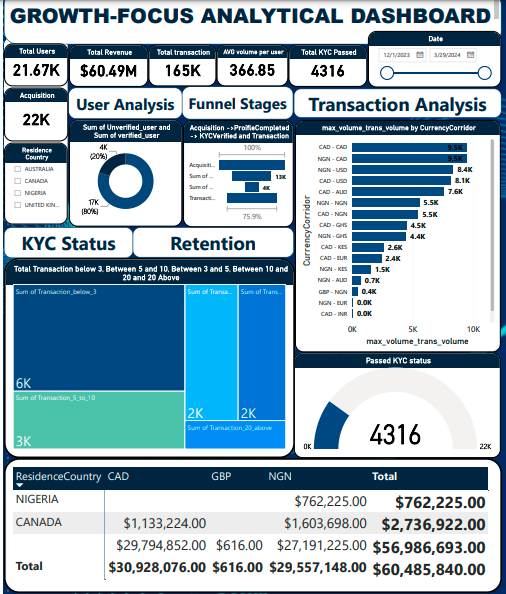

What the dashboard file says about the page in this screenshot:
{"tool":"powerbi","page":{"name":"Growth Report","canvas":[930,1166],"ordinal":0},"visuals":[{"type":"shape","box":[0,126.7,118.3,348.3],"z":1000},{"type":"shape","box":[118.8,221.9,201,56.2],"z":2000},{"type":"shape","box":[0,480.5,239.1,56.3],"z":3000},{"type":"shape","box":[535.7,222.9,384.3,54.3],"z":4000},{"type":"shape","box":[324,218.8,201,61.5],"z":5000},{"type":"shape","box":[249,480.2,286.5,55.2],"z":6000},{"type":"shape","box":[0,42.9,920,98.6],"z":7000},{"type":"textbox","box":[0,54.5,920.2,59.6],"z":8000},{"type":"actionButton","box":[0,0,100,40],"z":9000},{"type":"card","title":"Total transaction","fields":{"Values":["Transactions_Table1 - Transactions_Table.Total_Transaction"]},"box":[264.6,140.6,124,78.1],"z":10000},{"type":"card","title":"Total Users","fields":{"Values":["CountNonNull(Users_Table1 - Users_Table.Users)"]},"box":[0,138.5,117.7,80.2],"z":11000},{"type":"card","title":"Total Revenue","fields":{"Values":["Sum(Transactions_Table1 - Transactions_Table.BaseAmount)"]},"box":[122.9,140.6,137.5,80.2],"z":12000},{"type":"card","title":"Total KYC Passed","fields":{"Values":["Sum(Users_Table1 - Users_Table.completed_KYC_passed)"]},"box":[532.3,140.6,145.8,80.2],"z":13000},{"type":"slicer","title":"Residence Country","fields":{"Values":["Users_Table1 - Users_Table.ResidenceCountry"]},"box":[0,332.3,117.7,141.7],"z":14000},{"type":"card","title":"AVG volume per user","fields":{"Values":["Transactions_Table1 - Transactions_Table.AVG_volume_per_user"]},"box":[391.7,140.6,133.3,78.1],"z":15000},{"type":"card","title":"Acquisition","fields":{"Values":["Users_Table1 - Users_Table.Acquisition"]},"box":[0,226,117.7,100],"z":16000},{"type":"slicer","title":"Date","fields":{"Values":["Date_table.Date"]},"box":[681.2,115.6,238.5,106.2],"z":17000},{"type":"donutChart","fields":{"Y":["Sum(Users_Table1 - Users_Table.Unverified_user)","Sum(Users_Table1 - Users_Table.verified_user)"]},"box":[119.8,290.6,200,183.3],"z":18000},{"type":"funnel","title":"Acquisition ->ProifleCompleted -> KYCVerified and Transaction","fields":{"Y":["Users_Table1 - Users_Table.Acquisition","Sum(Users_Table1 - Users_Table.ProifleCompleted)","Sum(Users_Table1 - Users_Table.KYCVerified)","Transactions_Table1 - Transactions_Table.TransactionCount"]},"box":[322.9,290.6,204.2,183.3],"z":19000},{"type":"clusteredBarChart","fields":{"Category":["Transactions_Table1 - Transactions_Table.CurrencyCorridor"],"Y":["Transactions_Table1 - Transactions_Table.max_volume_trans_volume"]},"box":[550,290.6,368.8,420.8],"z":20000},{"type":"treemap","title":"Total Transaction below 3,  Between 5 and 10,  Between 3 and 5,  Between 10 and 20 and 20 Above","fields":{"Values":["Sum(User_and _NO_Trans.Transacrion_below_3)","Sum(User_and _NO_Trans.Transaction_10_to_20)","Sum(User_and _NO_Trans.Transaction_20_above)","Sum(User_and _NO_Trans.Transaction_3_to_5)","Sum(User_and _NO_Trans.Transaction_5_to_10)"]},"box":[0,542.7,537.5,370.8],"z":21000},{"type":"pivotTable","fields":{"Rows":["Users_Table1 - Users_Table.ResidenceCountry"],"Columns":["Transactions_Table1 - Transactions_Table.SendCurrencyId"],"Values":["Sum(Transactions_Table1 - Transactions_Table.BaseAmount)"]},"box":[0,922.9,920.8,236.5],"z":22000},{"type":"gauge","title":"Passed KYC status","fields":{"Y":["Sum(Users_Table1 - Users_Table.completed_KYC)"],"MaxValue":["CountNonNull(Users_Table1 - Users_Table.IsKYCVerified)"]},"box":[550,719.8,368.8,188.5],"z":23000}]}

Visuals, with their boxes on the page's 930x1166 design canvas (x1, y1, x2, y2). These are canvas units, not pixel positions in the 506x594 screenshot, which may show the page scaled, cropped or inside an application window:
shape: select_region(0, 127, 118, 475)
shape: select_region(119, 222, 320, 278)
shape: select_region(0, 480, 239, 537)
shape: select_region(536, 223, 920, 277)
shape: select_region(324, 219, 525, 280)
shape: select_region(249, 480, 536, 535)
shape: select_region(0, 43, 920, 142)
textbox: select_region(0, 54, 920, 114)
actionButton: select_region(0, 0, 100, 40)
"Total transaction" card: select_region(265, 141, 389, 219)
"Total Users" card: select_region(0, 138, 118, 219)
"Total Revenue" card: select_region(123, 141, 260, 221)
"Total KYC Passed" card: select_region(532, 141, 678, 221)
"Residence Country" slicer: select_region(0, 332, 118, 474)
"AVG volume per user" card: select_region(392, 141, 525, 219)
"Acquisition" card: select_region(0, 226, 118, 326)
"Date" slicer: select_region(681, 116, 920, 222)
donutChart - Sum(Users_Table1 - Users_Table.Unverified_user) x Sum(Users_Table1 - Users_Table.verified_user): select_region(120, 291, 320, 474)
"Acquisition ->ProifleCompleted -> KYCVerified and Transaction" funnel: select_region(323, 291, 527, 474)
clusteredBarChart - Transactions_Table1 - Transactions_Table.CurrencyCorridor x Transactions_Table1 - Transactions_Table.max_volume_trans_volume: select_region(550, 291, 919, 711)
"Total Transaction below 3,  Between 5 and 10,  Between 3 and 5,  Between 10 and 20 and 20 Above" treemap: select_region(0, 543, 538, 914)
pivotTable - Users_Table1 - Users_Table.ResidenceCountry x Transactions_Table1 - Transactions_Table.SendCurrencyId: select_region(0, 923, 921, 1159)
"Passed KYC status" gauge: select_region(550, 720, 919, 908)
